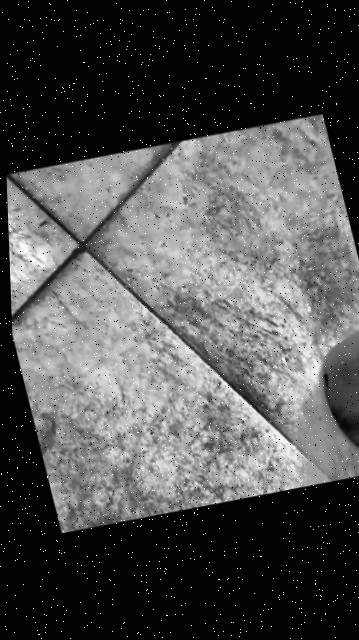pot: (300, 289, 359, 479)
